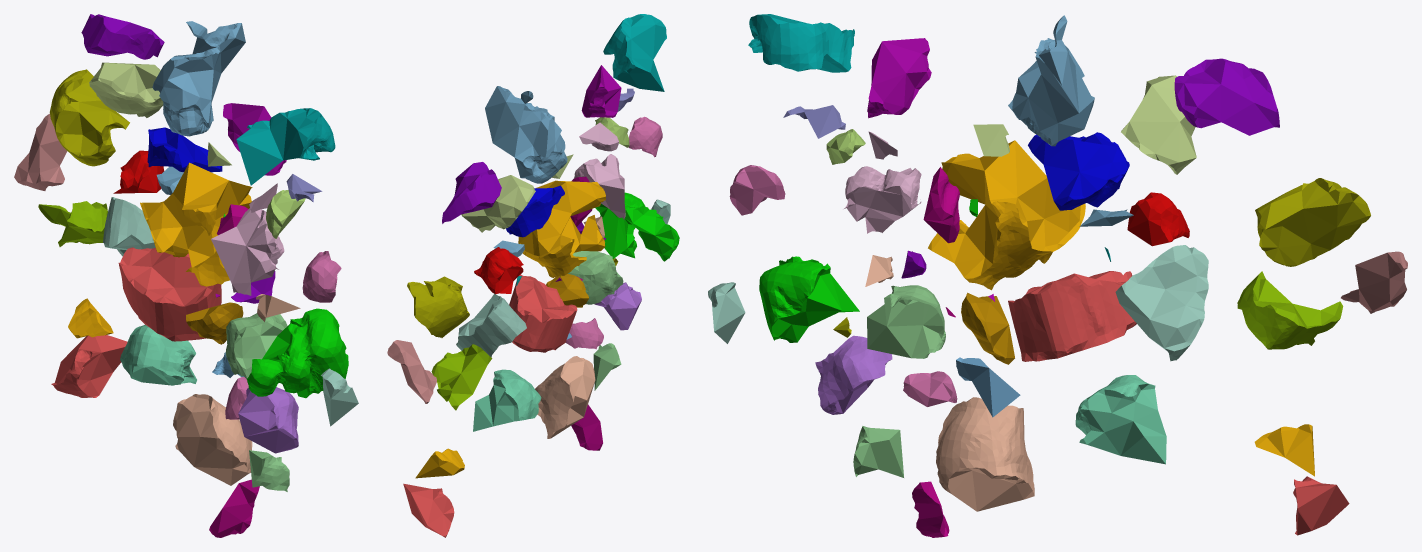
The model's file is fractured_11_45pcs_transformed.glb.
The picture shows the model from 3 angles, left to right: view 1: azimuth 30°, elevation 25°; view 2: azimuth 150°, elevation 25°; view 3: azimuth 270°, elevation 25°; orthographic projection. The views are drawn at different scales.
Parts seen in each view (by area): view 1: piece_0.obj, piece_1.obj, piece_2.obj, piece_8.obj, piece_7.obj, piece_11.obj, piece_13.obj, piece_6.obj, piece_22.obj, piece_30.obj, piece_5.obj, piece_24.obj (+21 smaller); view 2: piece_2.obj, piece_0.obj, piece_1.obj, piece_13.obj, piece_7.obj, piece_8.obj, piece_22.obj, piece_11.obj, piece_4.obj, piece_14.obj, piece_16.obj, piece_5.obj (+16 smaller); view 3: piece_0.obj, piece_7.obj, piece_1.obj, piece_4.obj, piece_11.obj, piece_2.obj, piece_16.obj, piece_22.obj, piece_8.obj, piece_10.obj, piece_13.obj, piece_3.obj (+20 smaller).
Part boxes in pixels (bbox=[...]): piece_0.obj: bbox=[140, 162, 252, 286]; piece_1.obj: bbox=[118, 247, 221, 341]; piece_2.obj: bbox=[152, 21, 245, 136]; piece_8.obj: bbox=[246, 308, 348, 398]; piece_7.obj: bbox=[173, 394, 252, 485]; piece_11.obj: bbox=[49, 69, 129, 166]; piece_13.obj: bbox=[236, 108, 335, 185]; piece_6.obj: bbox=[211, 208, 284, 295]; piece_22.obj: bbox=[120, 325, 196, 385]; piece_30.obj: bbox=[51, 335, 127, 397]; piece_5.obj: bbox=[89, 62, 163, 117]; piece_24.obj: bbox=[238, 387, 298, 453]; piece_2.obj: bbox=[485, 86, 567, 183]; piece_0.obj: bbox=[518, 180, 605, 277]; piece_1.obj: bbox=[509, 274, 577, 352]; piece_13.obj: bbox=[603, 14, 666, 91]; piece_7.obj: bbox=[535, 356, 595, 438]; piece_8.obj: bbox=[595, 192, 679, 261]; piece_22.obj: bbox=[473, 369, 541, 431]; piece_11.obj: bbox=[407, 276, 469, 337]; piece_4.obj: bbox=[456, 294, 526, 357]; piece_14.obj: bbox=[431, 344, 492, 410]; piece_16.obj: bbox=[442, 162, 501, 223]; piece_5.obj: bbox=[461, 175, 535, 232]; piece_0.obj: bbox=[928, 140, 1085, 290]; piece_7.obj: bbox=[936, 397, 1034, 511]; piece_1.obj: bbox=[1008, 271, 1136, 361]; piece_4.obj: bbox=[1115, 245, 1208, 361]; piece_11.obj: bbox=[1255, 178, 1370, 266]; piece_2.obj: bbox=[1008, 15, 1094, 146]; piece_16.obj: bbox=[1174, 58, 1279, 135]; piece_22.obj: bbox=[1075, 375, 1166, 464]; piece_8.obj: bbox=[759, 256, 859, 342]; piece_10.obj: bbox=[1028, 132, 1129, 210]; piece_13.obj: bbox=[748, 14, 854, 72]; piece_3.obj: bbox=[867, 285, 945, 358].
Size of the model in its own units: 0.4447 by 1.73 by 2.07.
